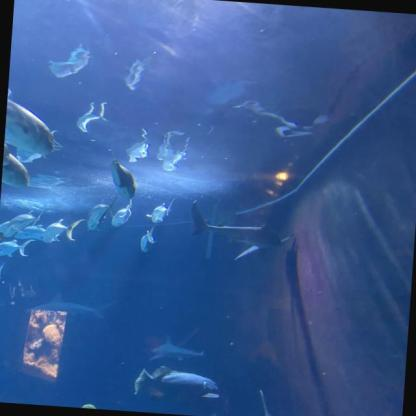fish: (133, 364, 221, 404), (3, 95, 58, 155), (2, 206, 44, 239), (42, 216, 85, 246), (86, 192, 117, 232), (1, 152, 31, 188), (14, 222, 59, 242), (0, 236, 37, 258), (146, 197, 174, 225), (110, 197, 132, 227), (139, 223, 158, 252), (3, 133, 11, 166), (0, 261, 6, 280)
shark: (183, 196, 305, 266), (240, 389, 357, 415), (24, 290, 118, 320), (148, 334, 204, 365)
stingray: (108, 159, 138, 199)
